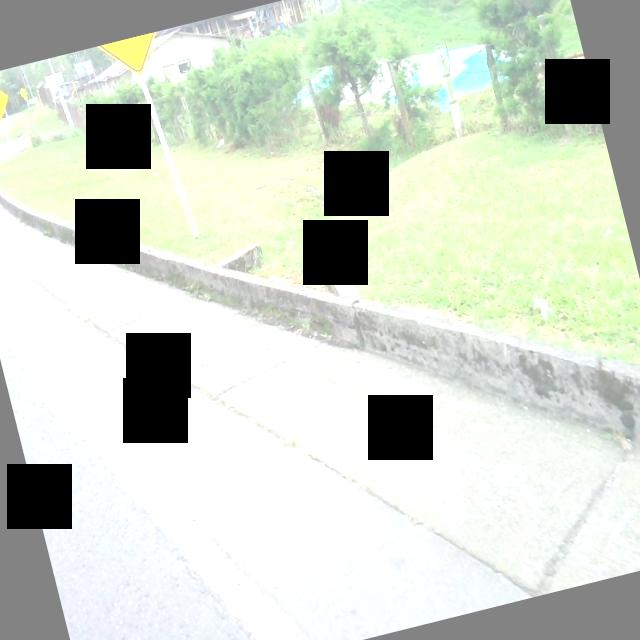DITCH: (0, 0, 640, 640), (0, 28, 640, 640)
